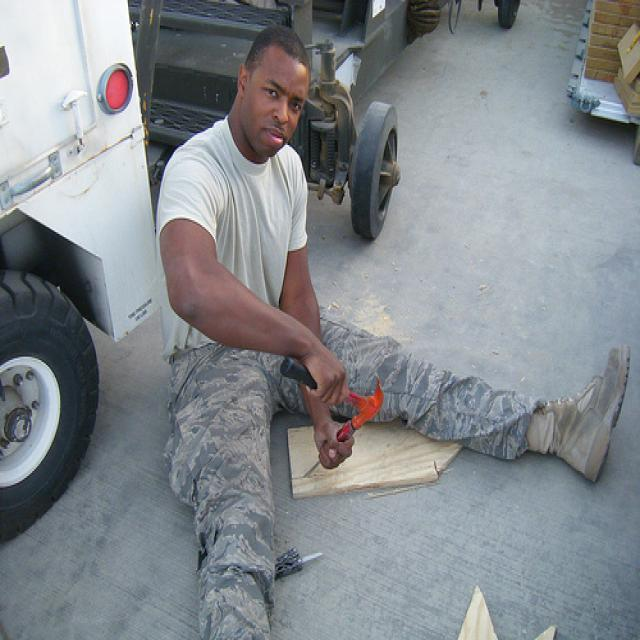hammer: (270, 345, 390, 435)
